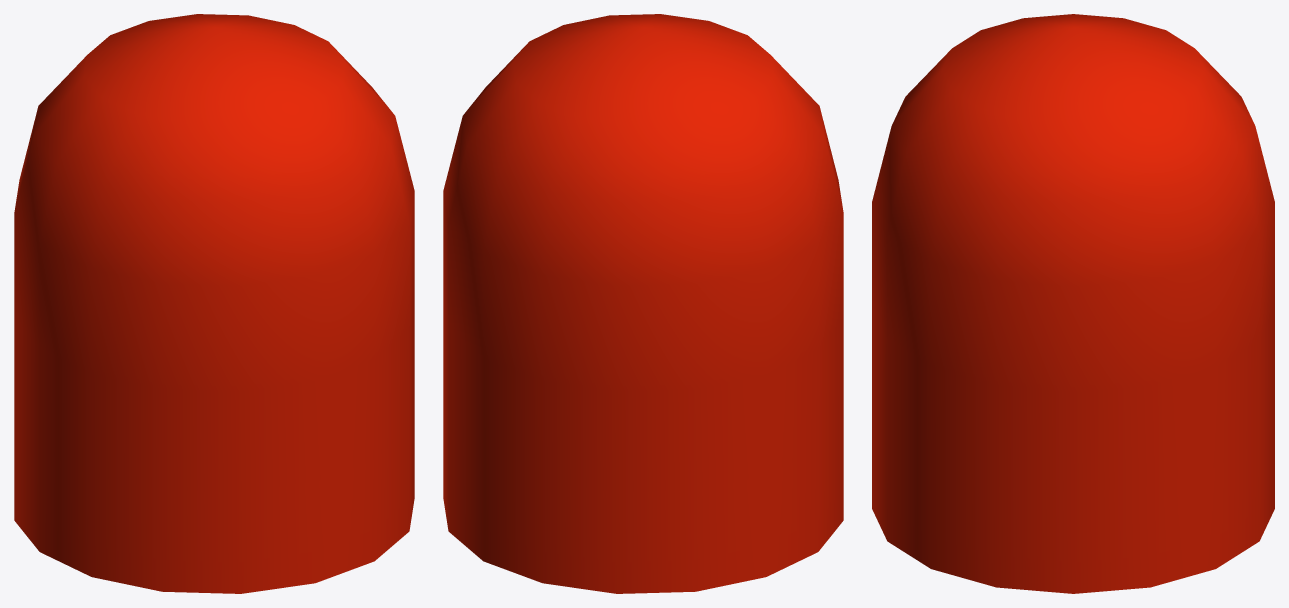
File: Arm_Sleeve_L_11_R.fbx
3 renders of one model, left to right at view 1: azimuth 30°, elevation 25°; view 2: azimuth 150°, elevation 25°; view 3: azimuth 270°, elevation 25°, orthographic.
Parts seen in each view (by area): view 1: Arm_Sleeve_L_11_R; view 2: Arm_Sleeve_L_11_R; view 3: Arm_Sleeve_L_11_R.
Boxes of the visible parts, x1,y1,x2,y2 form: Arm_Sleeve_L_11_R: (14, 14, 414, 593); Arm_Sleeve_L_11_R: (443, 14, 843, 593); Arm_Sleeve_L_11_R: (872, 14, 1274, 593).
Bounding box in the file's own units: 48.18 × 63.45 × 48.18.
